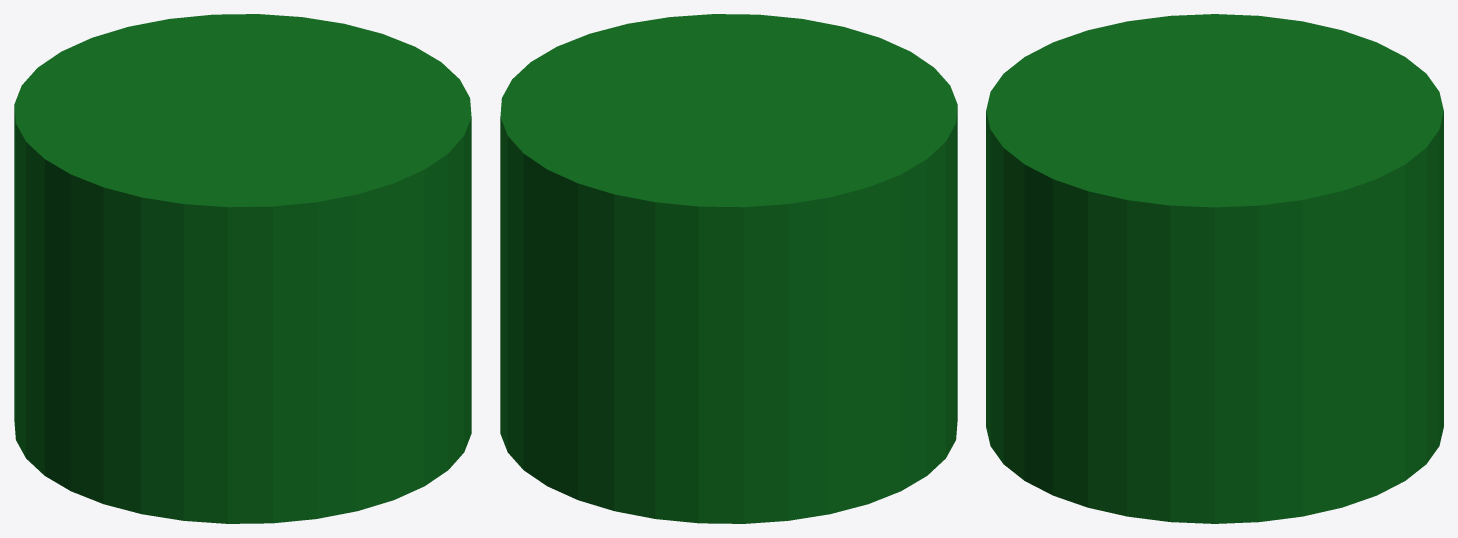
The model's file is Muro Circulo.fbx.
The picture shows the model from 3 angles, left to right: view 1: azimuth 30°, elevation 25°; view 2: azimuth 150°, elevation 25°; view 3: azimuth 270°, elevation 25°; orthographic projection.
Visible parts, largest first — view 1: Muro Circulo Batalla; view 2: Muro Circulo Batalla; view 3: Muro Circulo Batalla.
Boxes of the visible parts, x1,y1,x2,y2 form: Muro Circulo Batalla: (14, 14, 471, 523); Muro Circulo Batalla: (500, 14, 957, 523); Muro Circulo Batalla: (986, 14, 1443, 523).
Bounding box in the file's own units: 22148 × 22148 × 16899.
